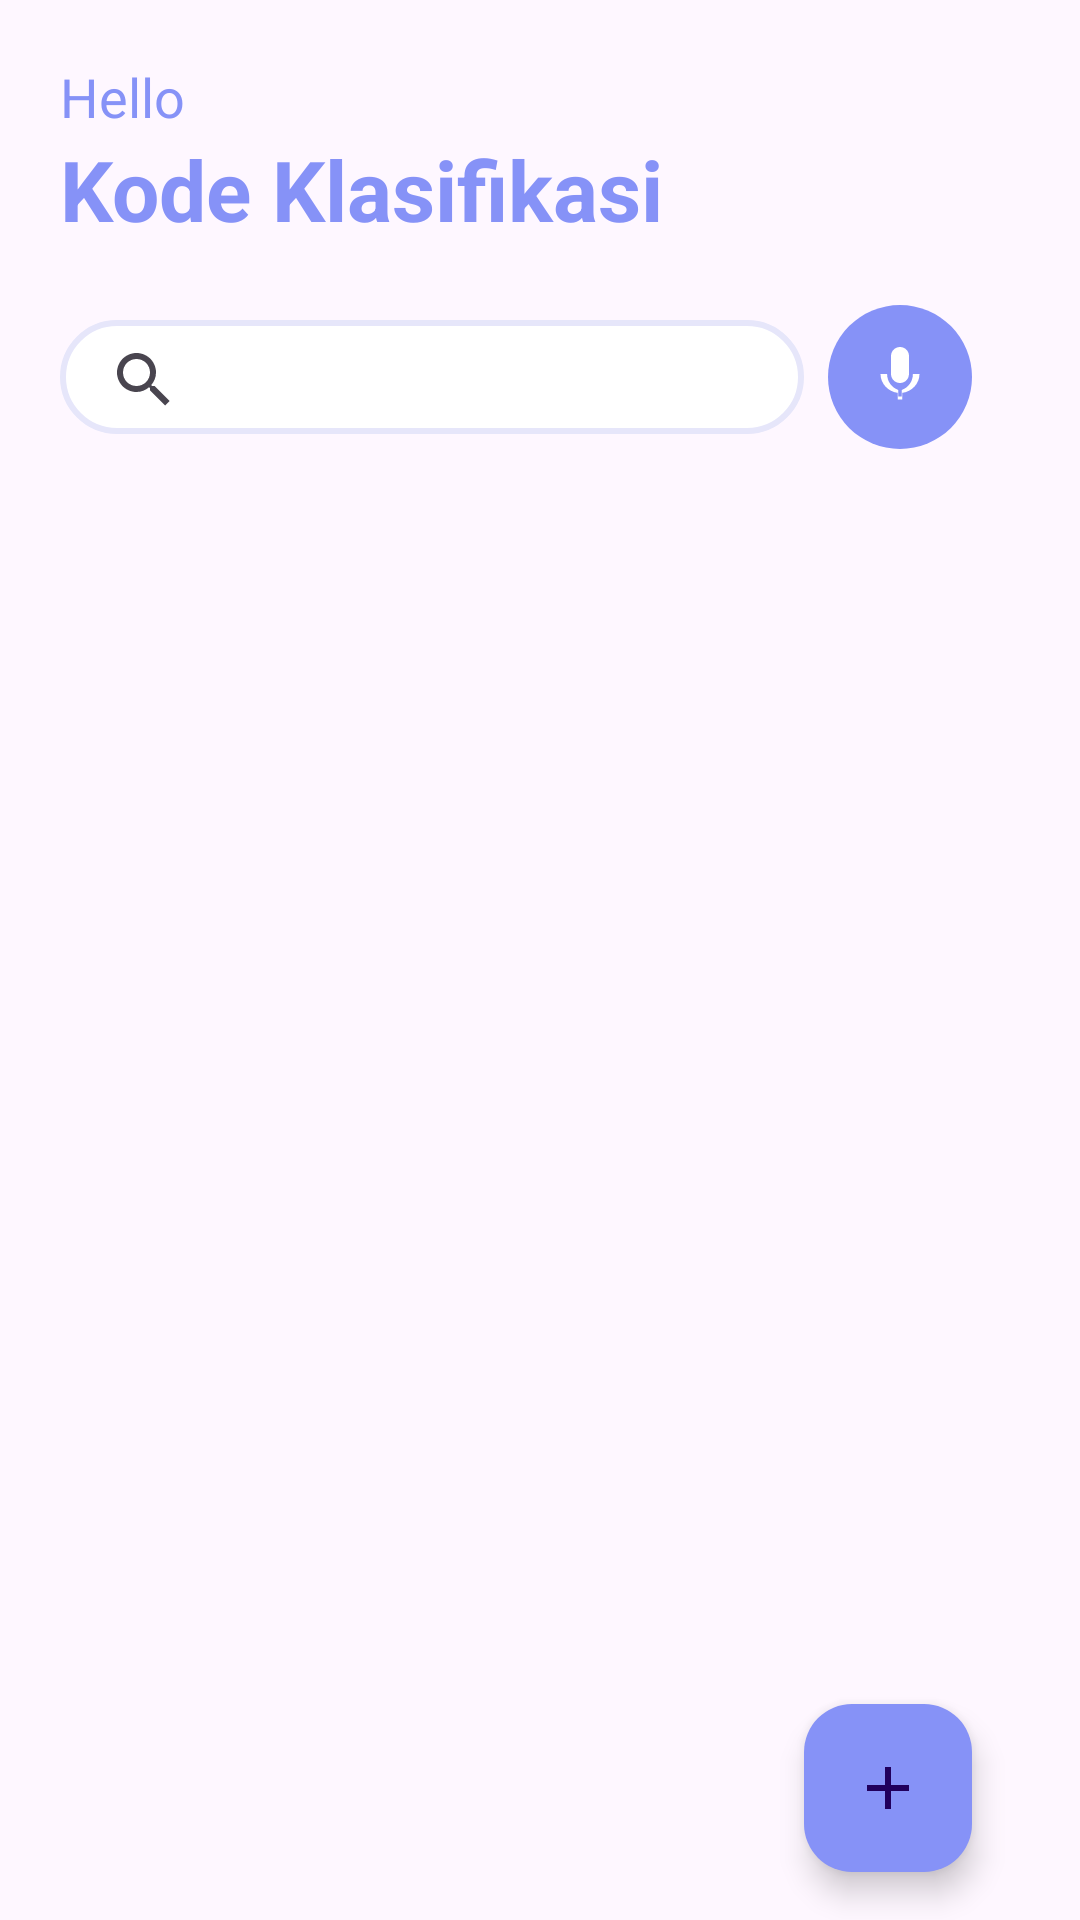

Icons on this 1080 × 1920 Android screen, each with its box as bbox=(x1, y1, x2, y2):
Add Task: bbox=(804, 1704, 972, 1872)
Voice Search: bbox=(828, 305, 972, 449)
